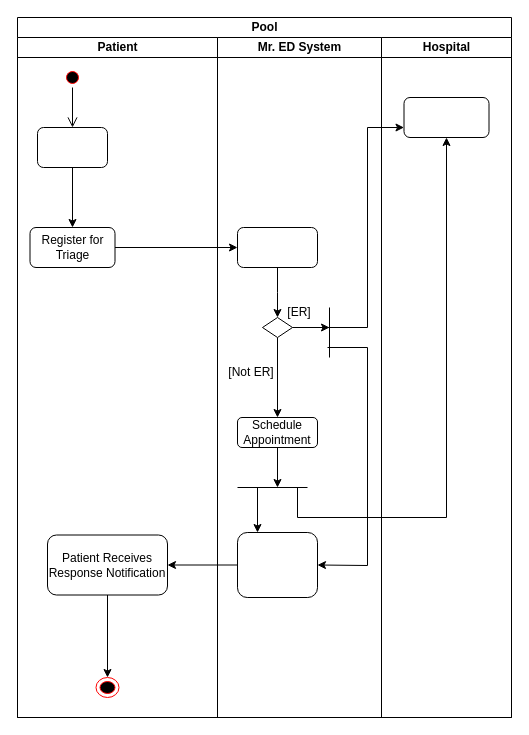
This 529x735 diagram has some shape labels left out. The shapes that lost their labels are listed below. From the top down, each one's centre as x and y in pixels, then its label:
At point 446,117: "View Incoming Patient Info".
At point 72,147: "Enter symptoms".
At point 277,247: "Run Triage".
At point 277,565: "Send Notification".
